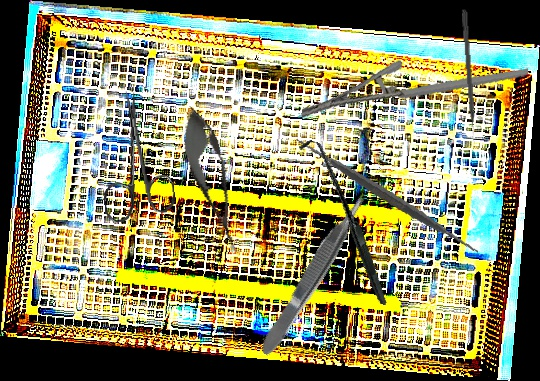Hook Surgical: (261, 137, 427, 306)
Iris Scissors: (92, 87, 178, 224)
Micro Scissor: (171, 100, 253, 261)
Needle Holder: (300, 34, 529, 153)
Pusher: (460, 8, 477, 145)
Spatula Surgical: (295, 102, 480, 289)
Tissue Forceps: (253, 189, 374, 359)
